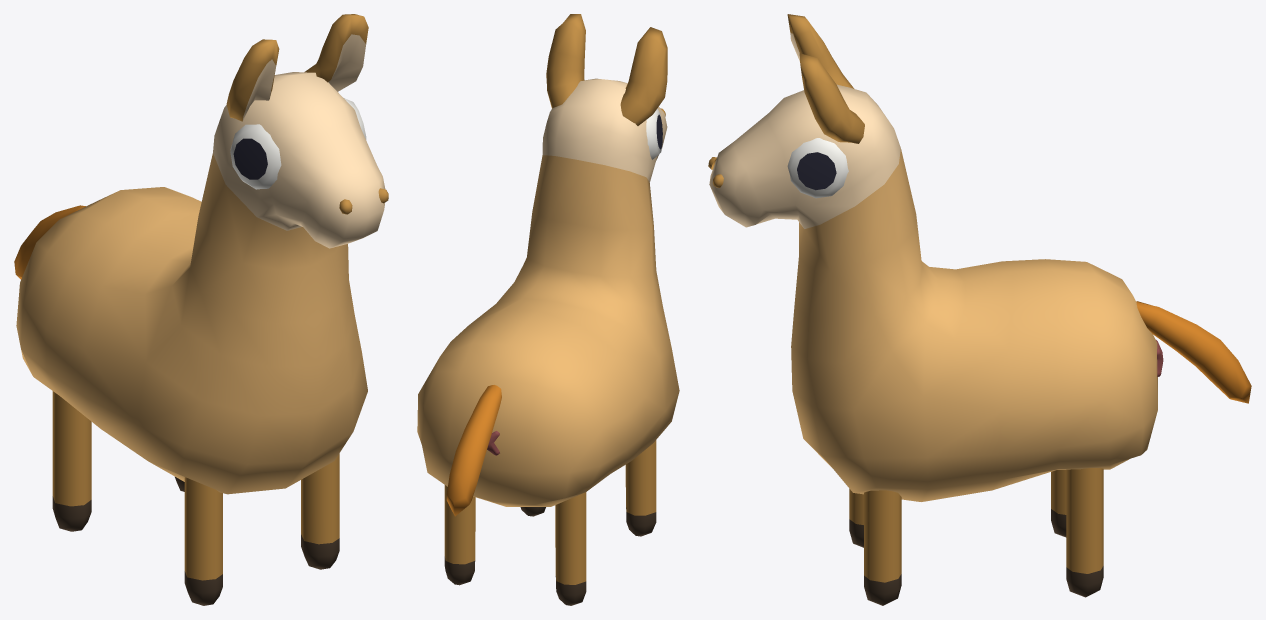
File: Llama.glb
3 views of the same model, side by side, from view 1: azimuth 30°, elevation 25°; view 2: azimuth 150°, elevation 25°; view 3: azimuth 270°, elevation 25° (orthographic). The views are drawn at different scales.
Parts seen in each view (by area): view 1: Llama; view 2: Llama; view 3: Llama.
Part boxes in pixels (<box>): Llama: <box>14,14,388,605</box>; Llama: <box>417,14,679,605</box>; Llama: <box>708,14,1251,605</box>.
Size of the model in its own units: 1.31 by 3.14 by 2.83.
Materials: 1 (1 with a texture image).
